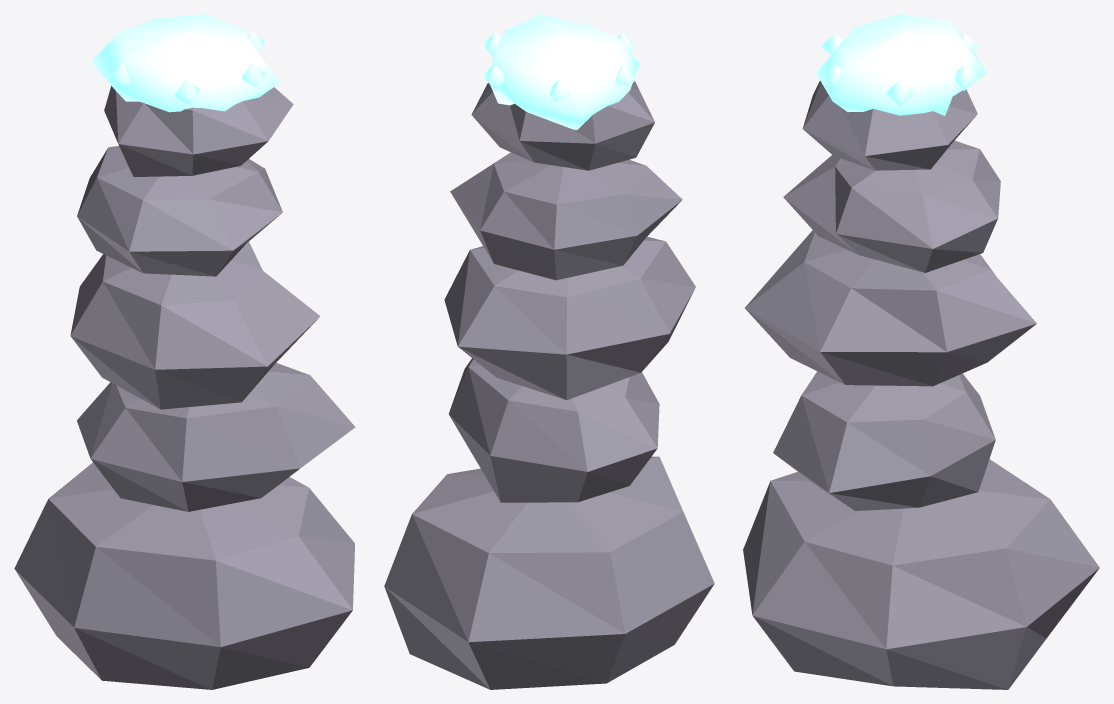
Rendered from cairn_stage3.glb.
The picture shows the model from 3 angles, left to right: view 1: azimuth 30°, elevation 25°; view 2: azimuth 150°, elevation 25°; view 3: azimuth 270°, elevation 25°; orthographic projection. The views are drawn at different scales.
Visible parts, largest first — view 1: stones, moss_cap; view 2: stones, moss_cap; view 3: stones, moss_cap.
Part boxes in pixels (x1,y1,x2,y2): stones: (14,86,355,689); moss_cap: (91,14,279,112); stones: (384,81,714,689); moss_cap: (483,14,639,129); stones: (743,80,1099,689); moss_cap: (816,14,986,115).
Bounding box in the file's own units: 0.2733 × 0.5624 × 0.2884.
